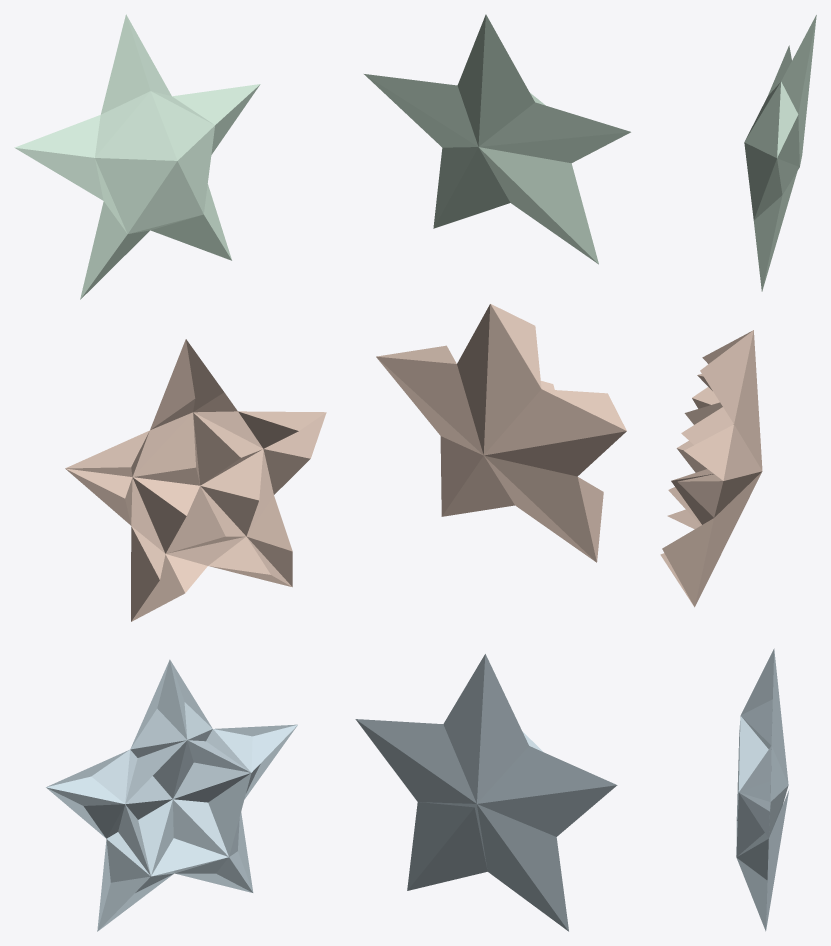
Rendered from stars2.glb.
3 views of the same model, side by side, from view 1: azimuth 30°, elevation 25°; view 2: azimuth 150°, elevation 25°; view 3: azimuth 270°, elevation 25° (orthographic). The views are drawn at different scales.
Parts seen in each view (by area): view 1: Circle.002, Circle.001, Circle; view 2: Circle.002, Circle.001, Circle; view 3: Circle.002, Circle.001, Circle.
Boxes of the visible parts, left/top/right/bottom form: Circle.002: left=65, top=339, right=326, bottom=621; Circle.001: left=46, top=659, right=297, bottom=931; Circle: left=14, top=14, right=260, bottom=299; Circle.002: left=376, top=304, right=626, bottom=562; Circle.001: left=355, top=654, right=617, bottom=931; Circle: left=364, top=14, right=630, bottom=264; Circle.002: left=660, top=330, right=762, bottom=607; Circle.001: left=736, top=648, right=788, bottom=931; Circle: left=744, top=15, right=816, bottom=291.
Bounding box in the file's own units: 2.1 × 6.39 × 1.04.
